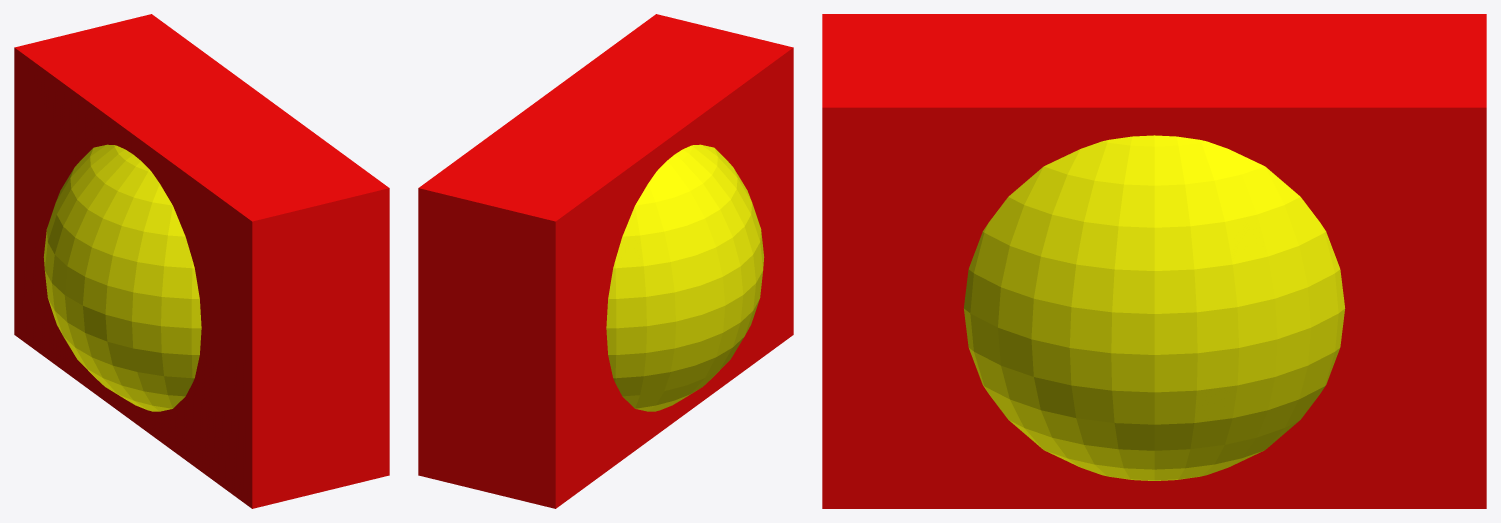
File: runner.test.glb
The picture shows the model from 3 angles, left to right: view 1: azimuth 30°, elevation 25°; view 2: azimuth 150°, elevation 25°; view 3: azimuth 270°, elevation 25°; orthographic projection. The views are drawn at different scales.
Parts seen in each view (by area): view 1: b, s; view 2: b, s; view 3: b, s.
Part boxes in pixels (x1,y1,x2,y2): b: [14, 14, 389, 508]; s: [43, 144, 201, 411]; b: [418, 14, 793, 508]; s: [606, 144, 764, 411]; b: [822, 14, 1486, 508]; s: [963, 135, 1345, 480].
Size of the model in its own units: 20 by 20 by 30.
